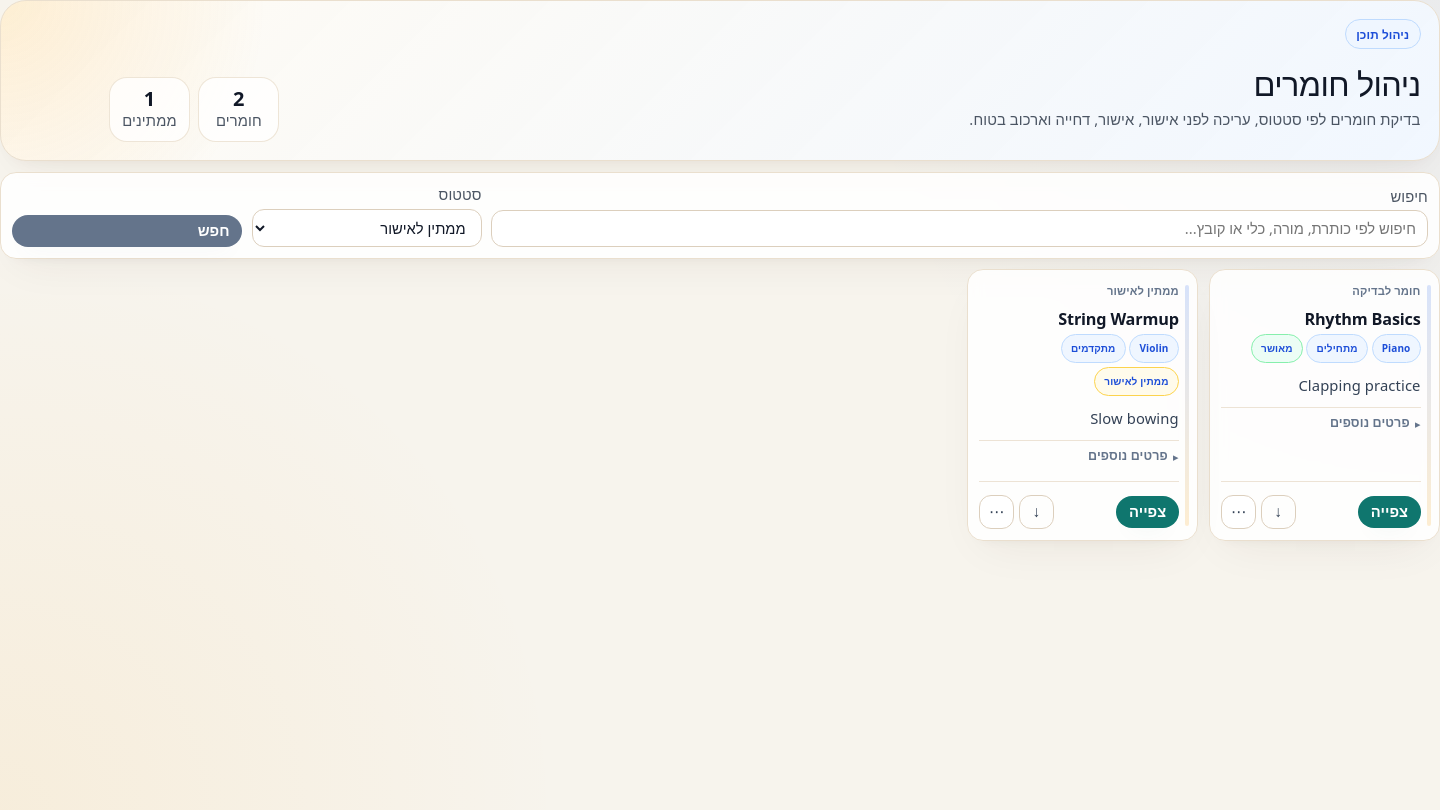
Scenario: AdminPendingMaterialsPage › does not reject without a reason and can cancel the dialog
This screenshot has width=1440, height=810.
Expected: the text "String Warmup" is shown, x1=1058 y1=308 x2=1179 y2=330
Click the button named "פעולות נוספות". click: click(997, 512)
box: x1=979 y1=495 x2=1014 y2=529
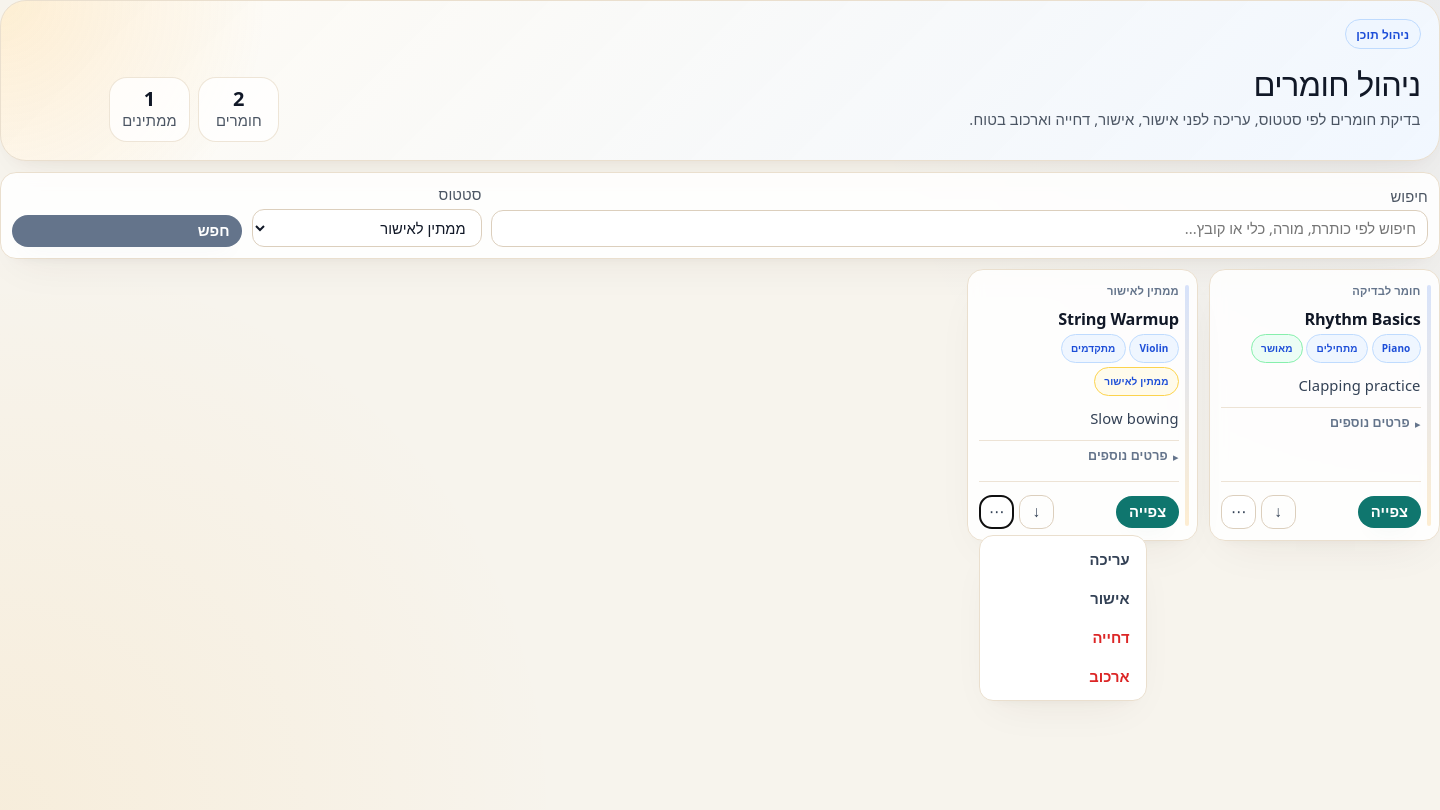
Click the menu item "דחייה". click: click(1063, 637)
box: x1=986 y1=619 x2=1141 y2=656
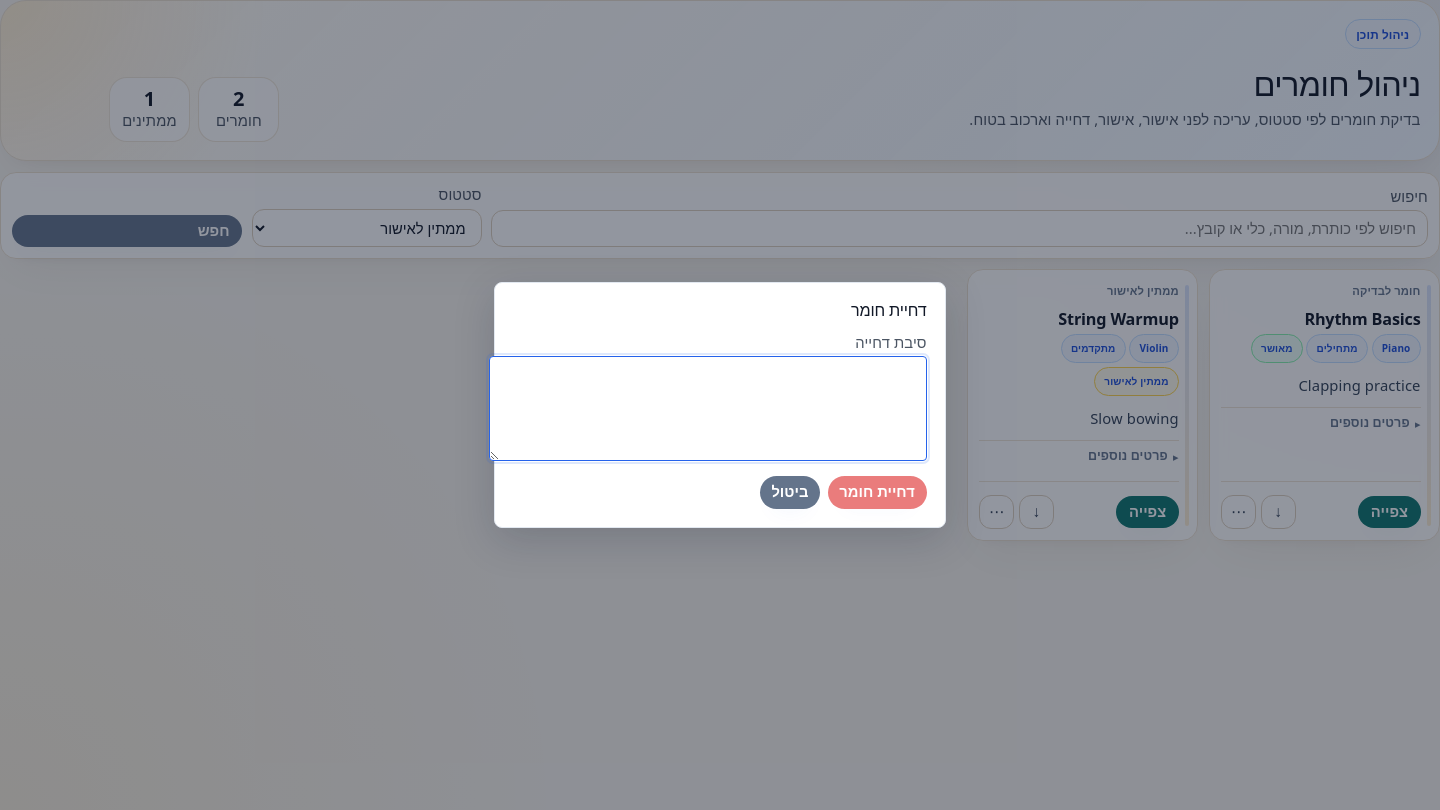
Expected: the button "דחיית חומר" is disabled, x1=828 y1=476 x2=927 y2=509
Click the button "ביטול". click: click(790, 492)
box: x1=760 y1=476 x2=820 y2=509
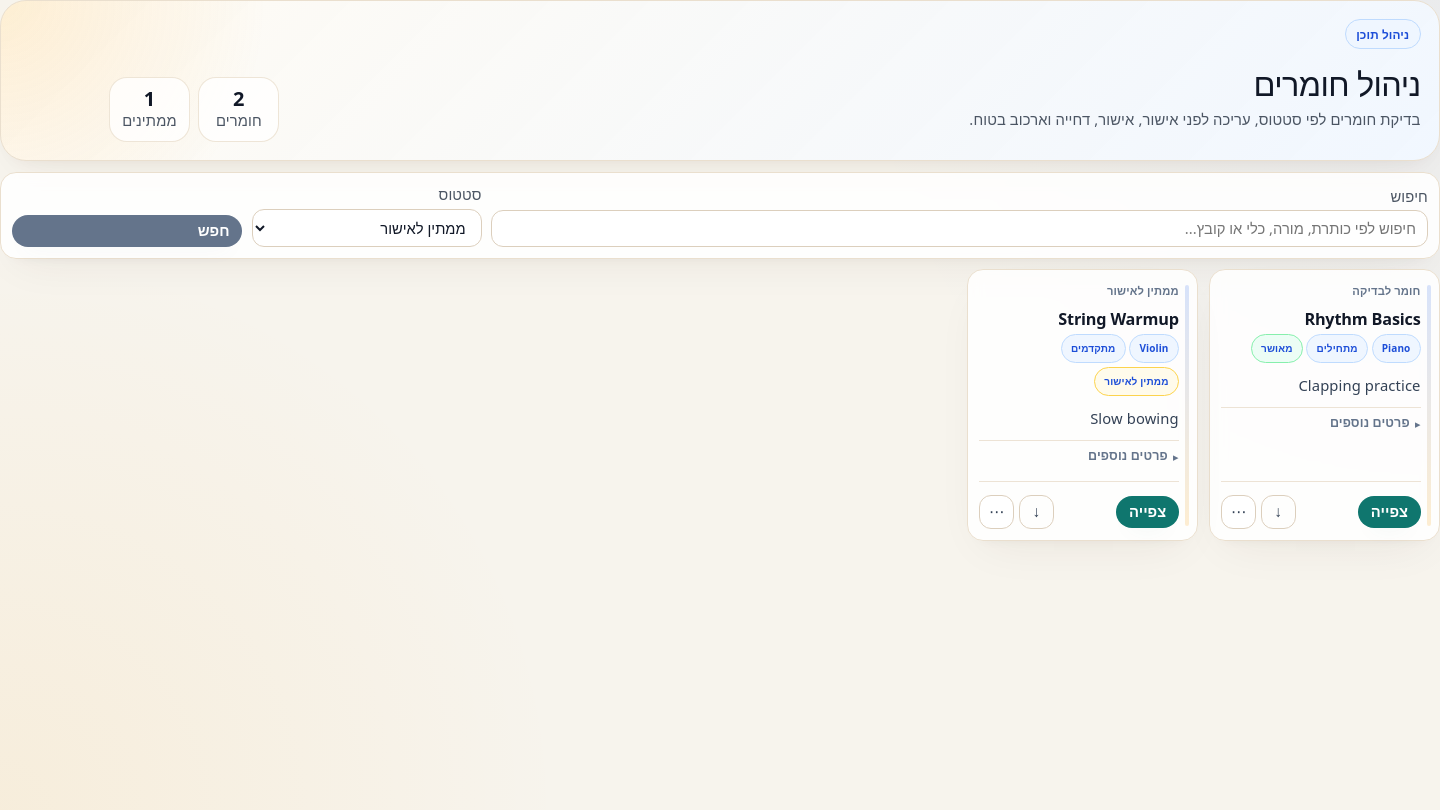
Expected: the dialog is gone
